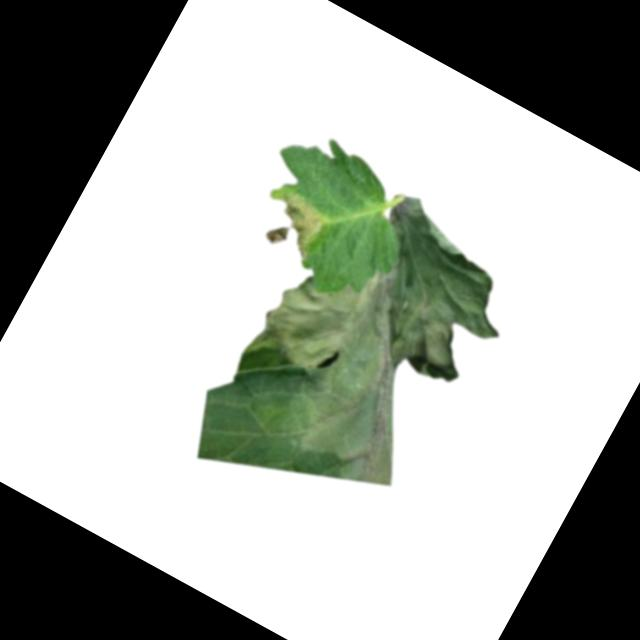Late_blight: (214, 162, 536, 507), (255, 185, 336, 265)
